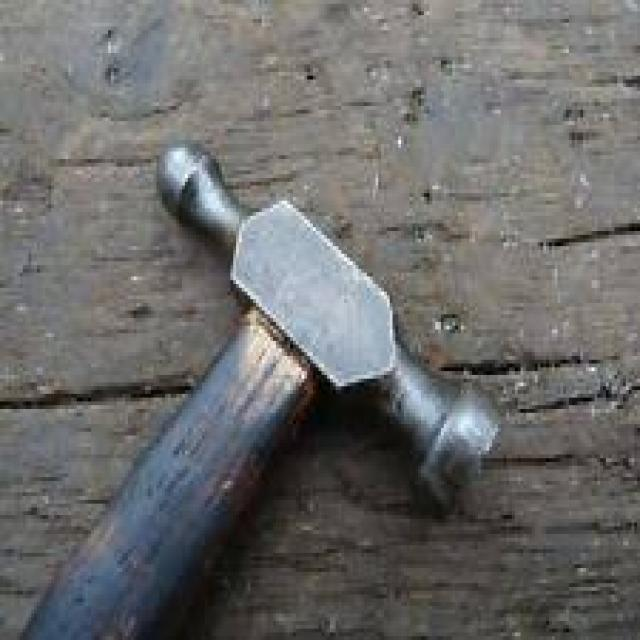hammer: (13, 132, 508, 640)
